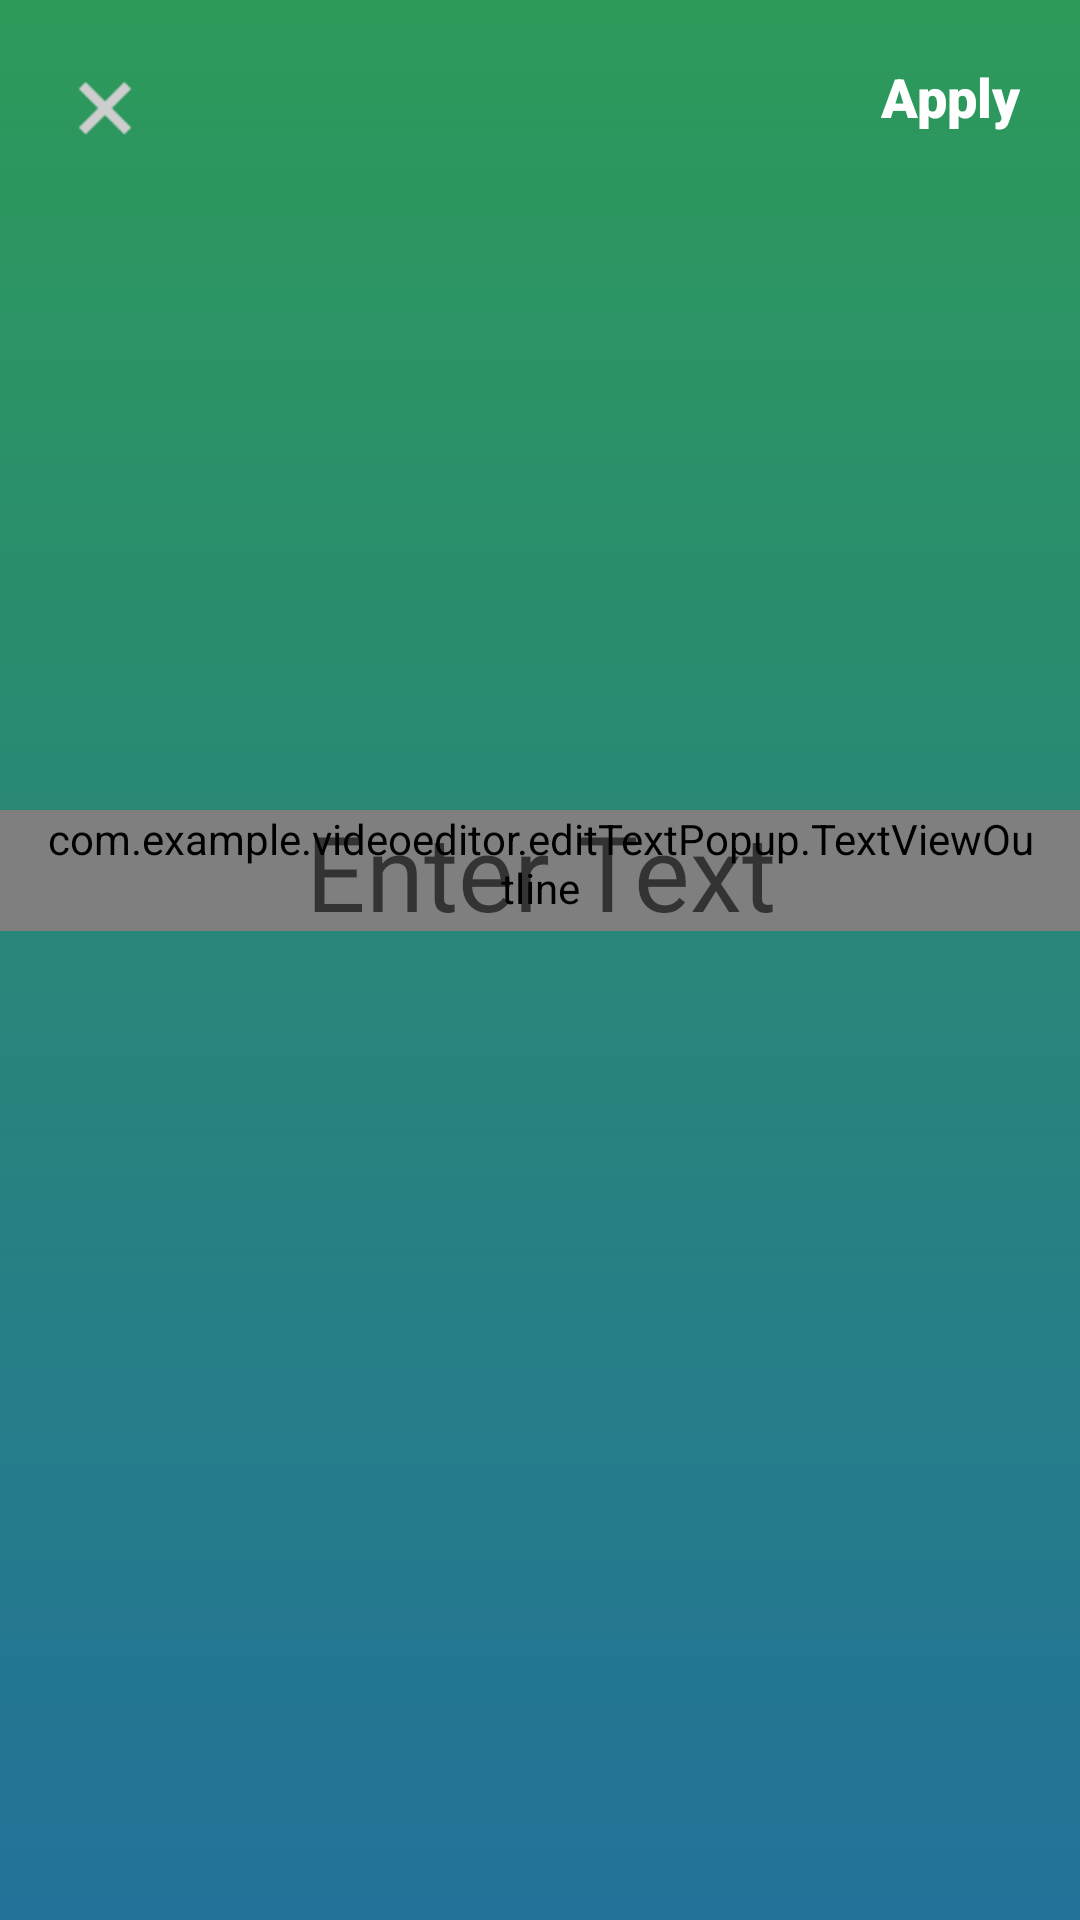

Icons on this 1080px×1920px Android screen, each with the point to tap as (x,y):
cancel: (105,108)
